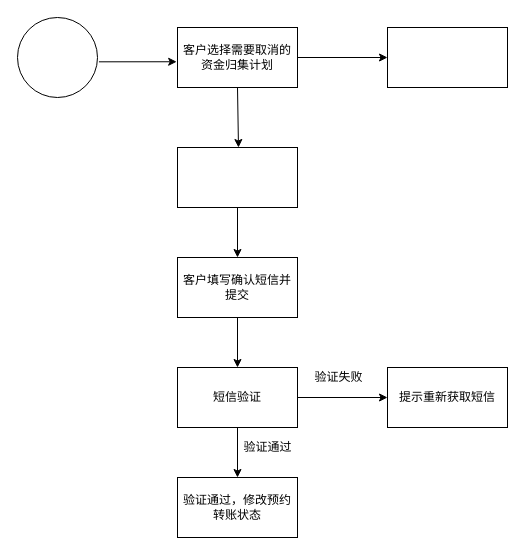
The diagram is 525 pixels wide and 555 high, and some of its shapes have lost their labels. The shapes that lost their labels are listed below. From the top down, each one's centre as x and y in pixels, then its label:
At pixel 57 57: "开始".
At pixel 447 57: "展示详情".
At pixel 237 177: "点击取消预约转账按钮，发短信解除签约关系".
